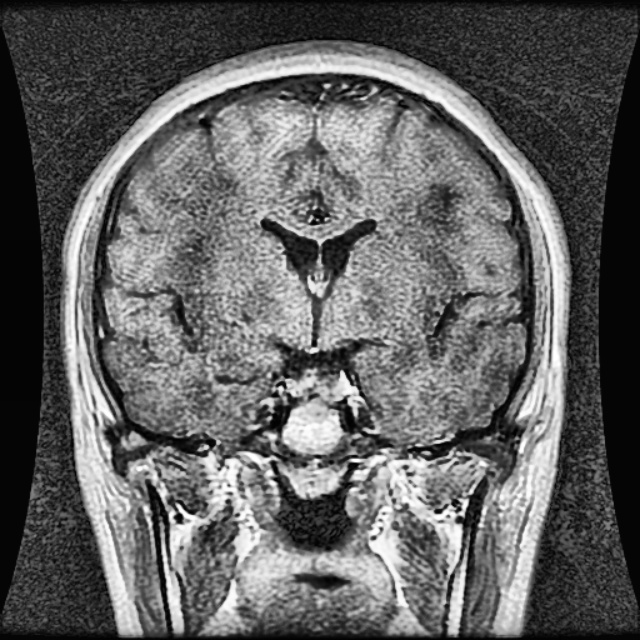Pituitary: (288, 367, 354, 403)
